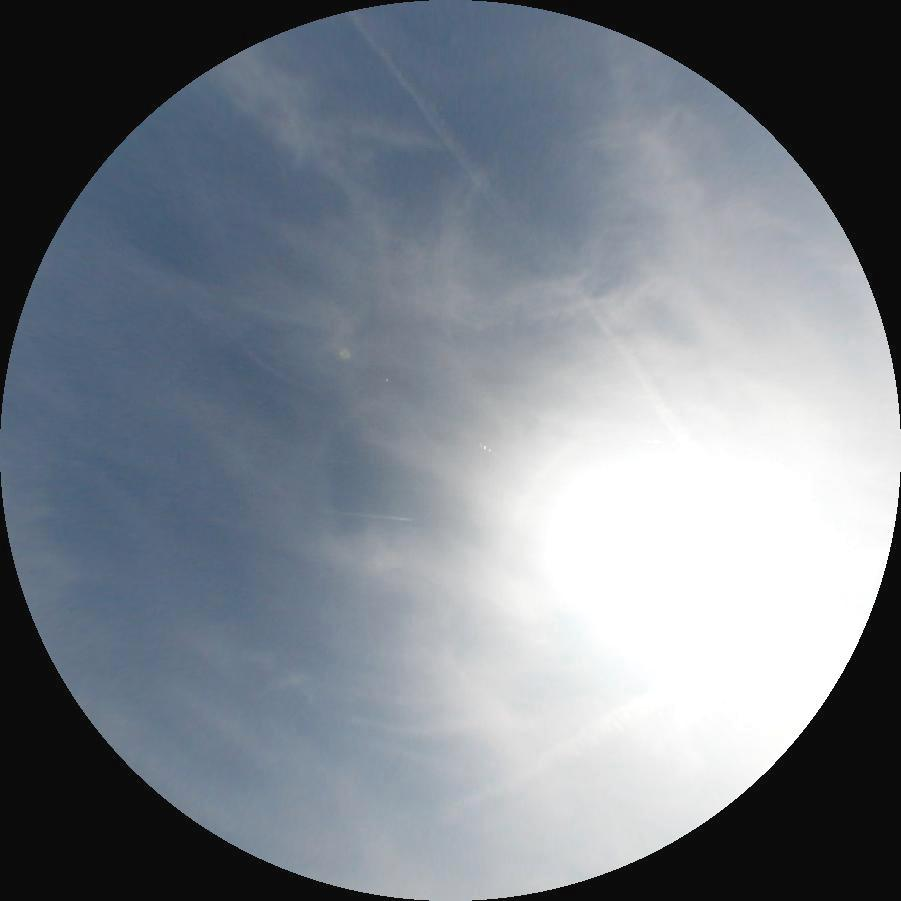contrail old: (342, 6, 748, 502)
contrail veryold: (409, 657, 713, 848)
contrail young: (334, 511, 413, 522)
sun: (562, 446, 819, 667)
